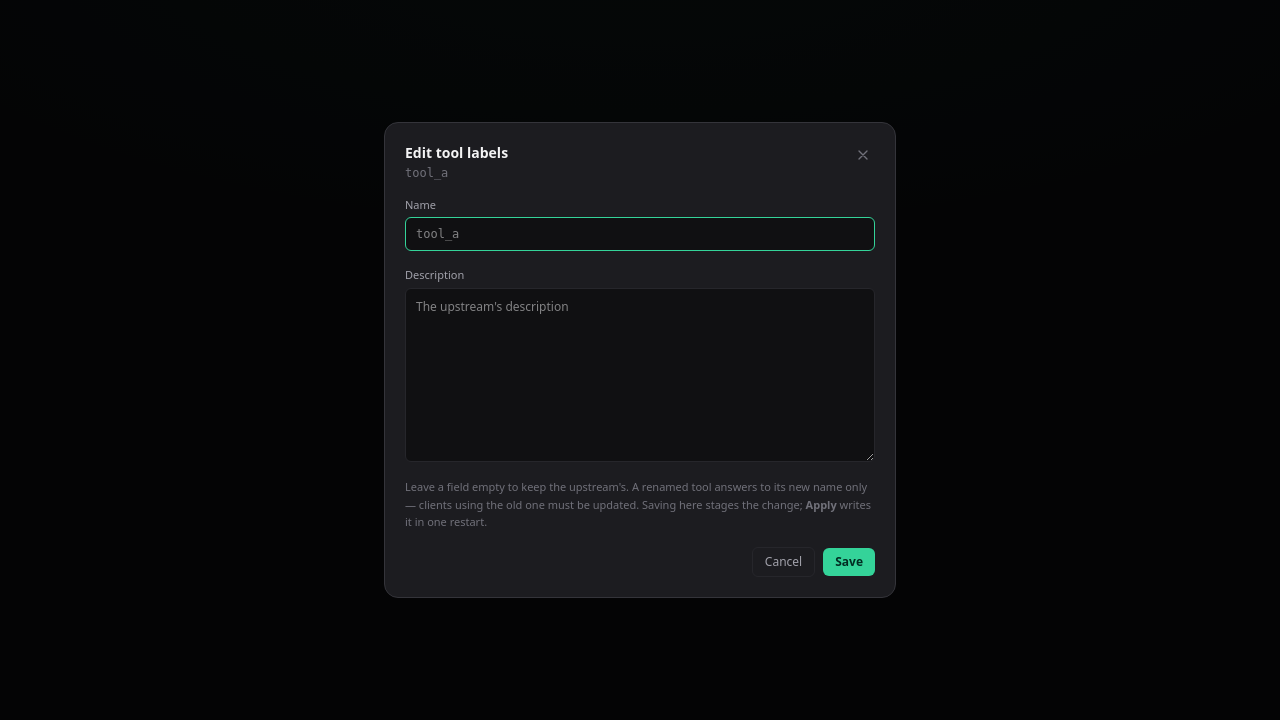
Test: ToolLabelModal › warns when the rename lands on a name another exposed tool holds
The width and height of the screenshot is (1280, 720).
Check: the text "will refuse this rename" is not shown
In the field labelled "Name": (640, 234) [405,217,875,251], type "tool_b"
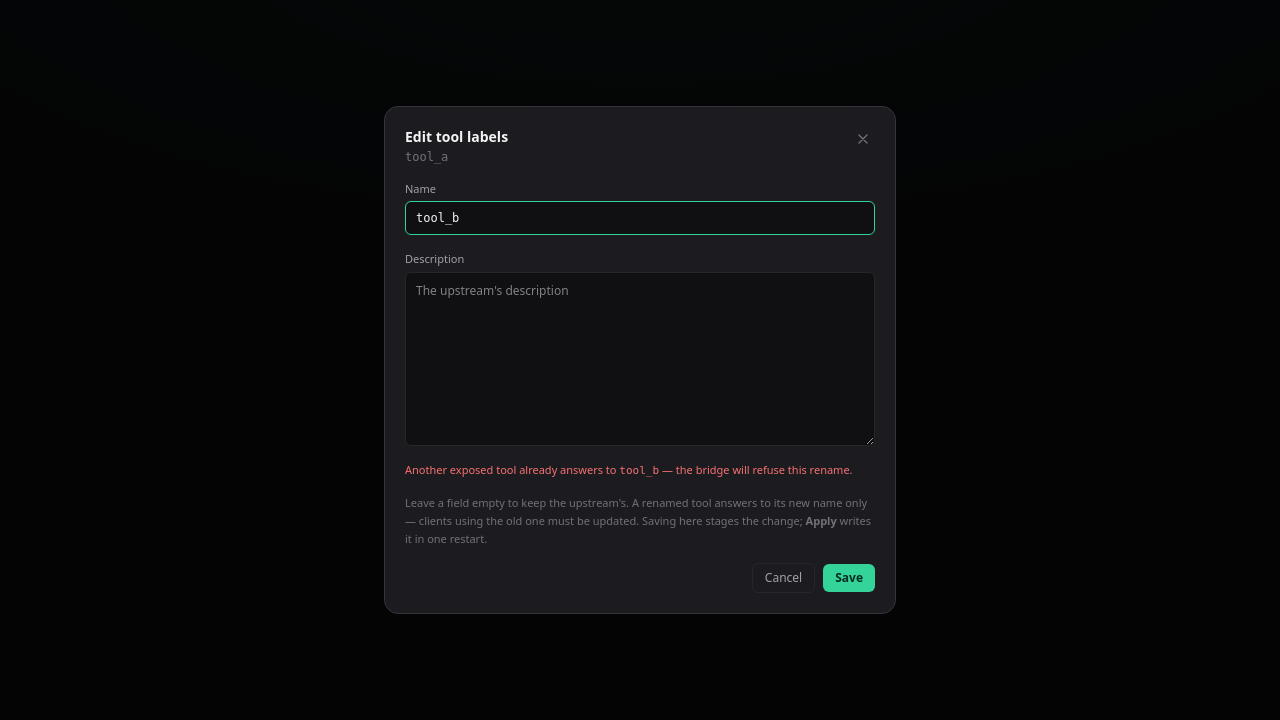
Check: the text "will refuse this rename" is shown, box [659,462,852,477]
Replace the text in the field labelled "Name" with "tool_a": (640, 218) [405,201,875,235]
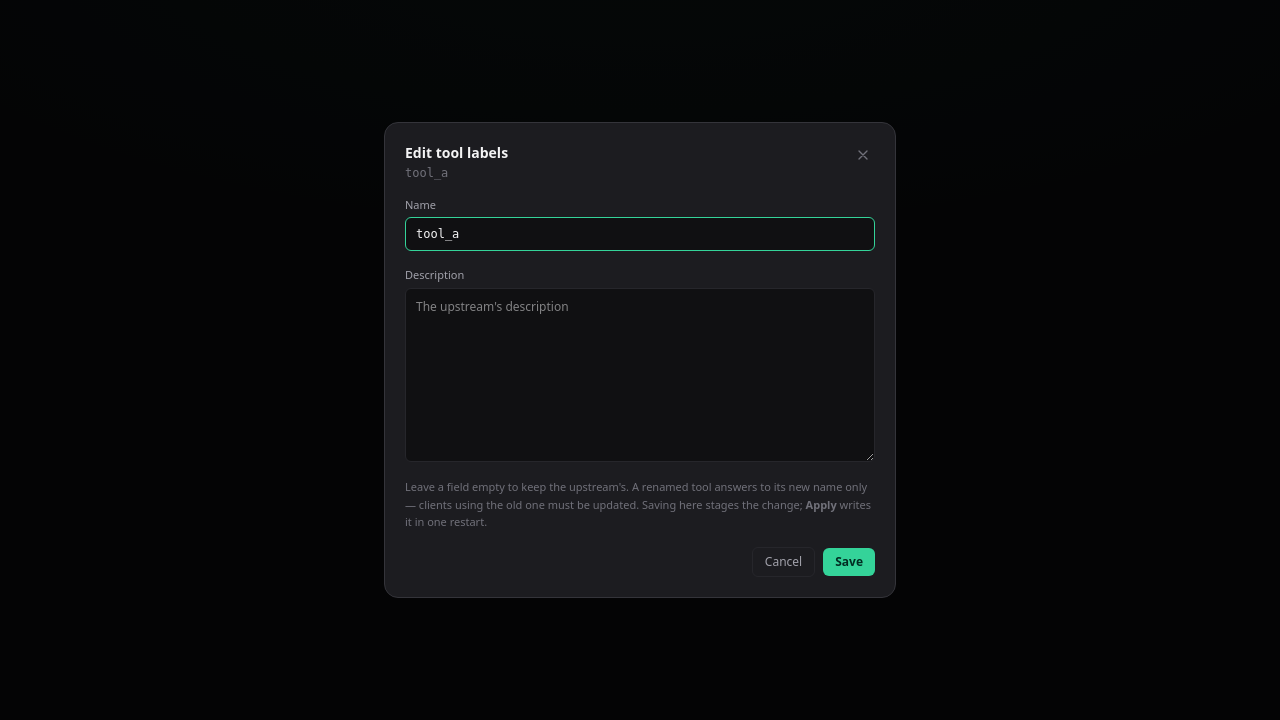
Check: the text "will refuse this rename" is gone
